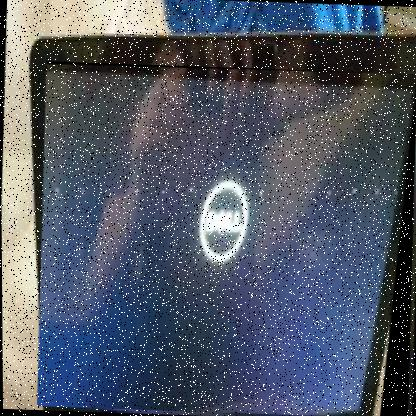fade: (33, 61, 415, 416)
spot: (382, 187, 399, 215), (62, 168, 78, 193), (179, 177, 193, 200), (355, 193, 370, 214), (86, 172, 97, 196), (275, 188, 287, 208), (249, 184, 260, 204), (305, 186, 316, 206), (136, 176, 143, 190), (114, 178, 121, 190)
